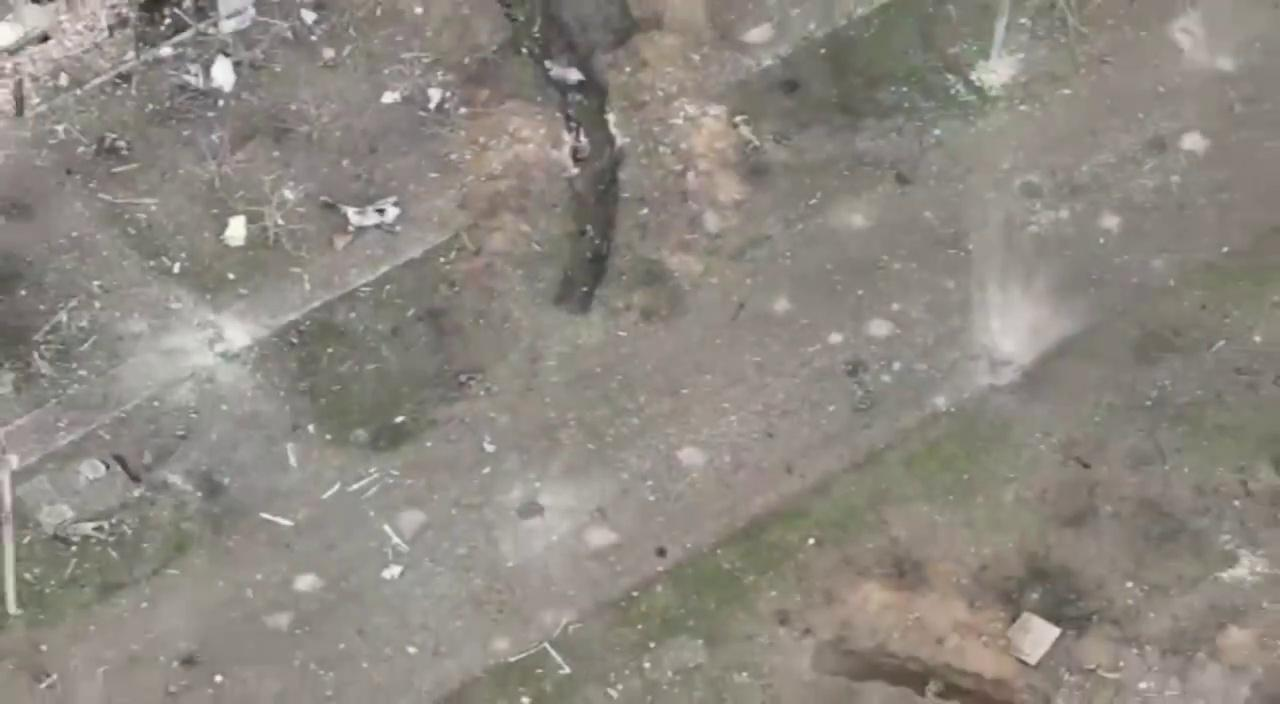person: (321, 193, 402, 255), (540, 57, 588, 88), (12, 64, 24, 119)
trench: (492, 4, 616, 308), (812, 630, 1028, 704)
